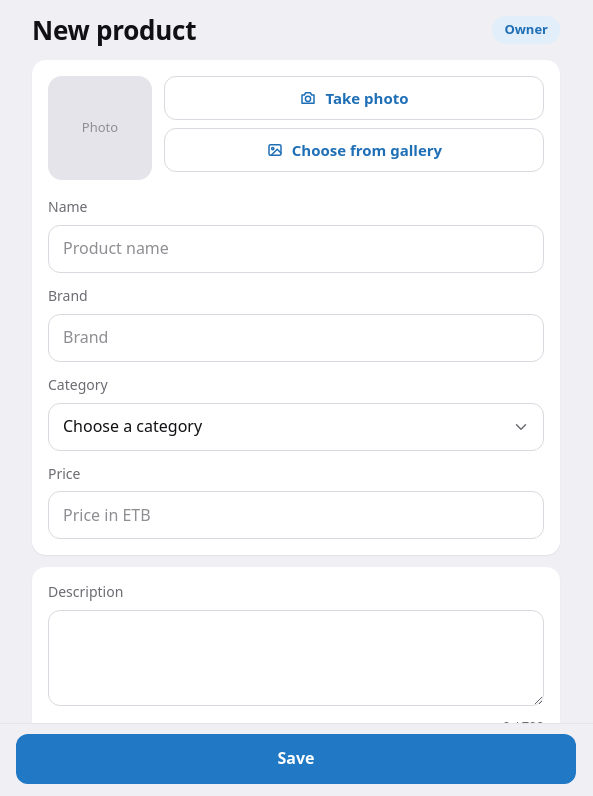
Test: Products › a new product needs a name, then goes on to its stock grid
Click the button "Save": (296, 759) [16, 734, 576, 784]
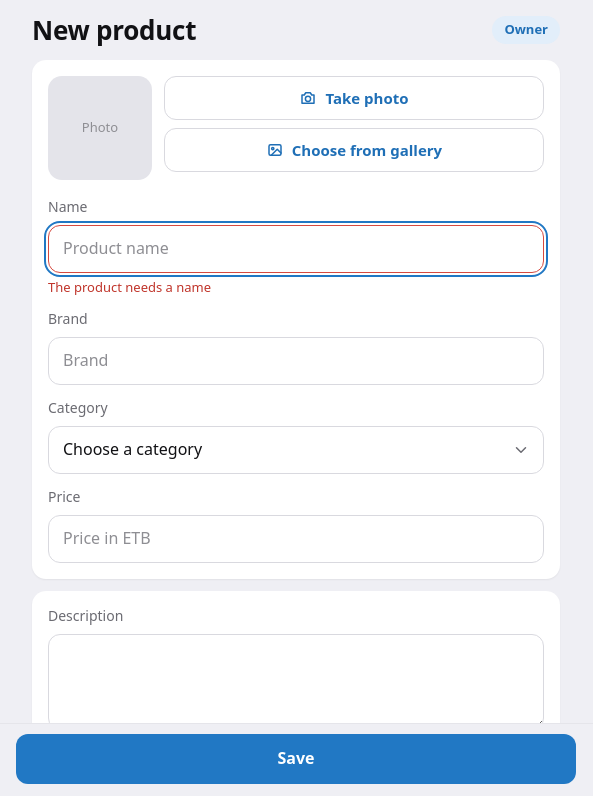
Check: the text "The product needs a name" is shown, box [48, 278, 211, 296]
In the field labelled "Name": (296, 249) [48, 225, 544, 273], type "Polo"
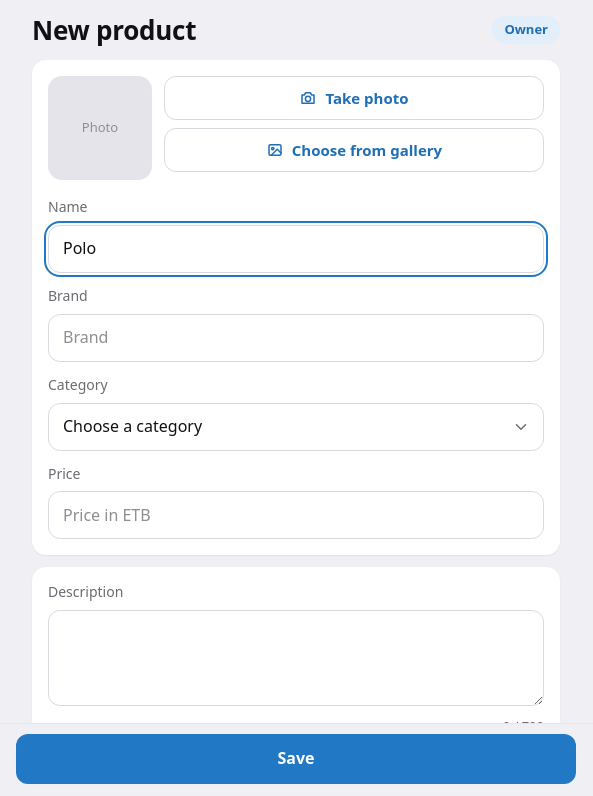
In the field labelled "Price": (296, 516) [48, 492, 544, 540], type "1800"
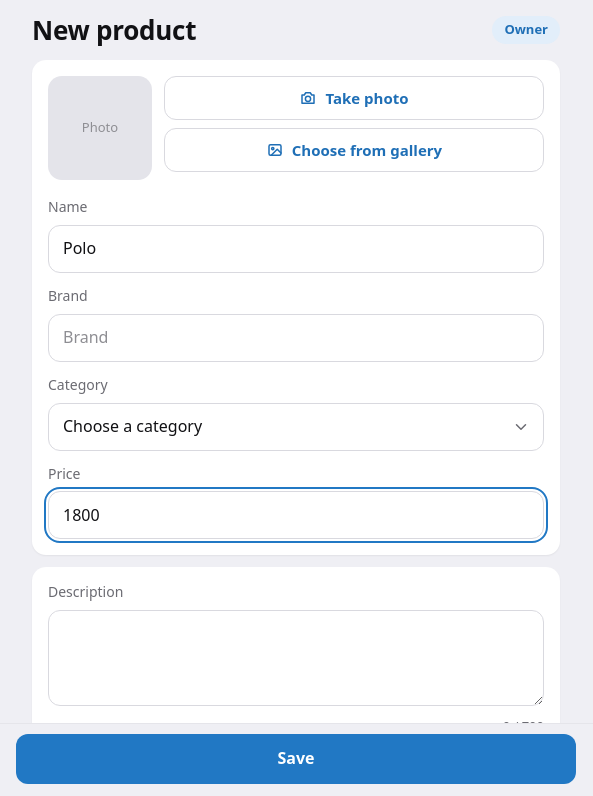
Click the button "Save": (296, 759) [16, 734, 576, 784]
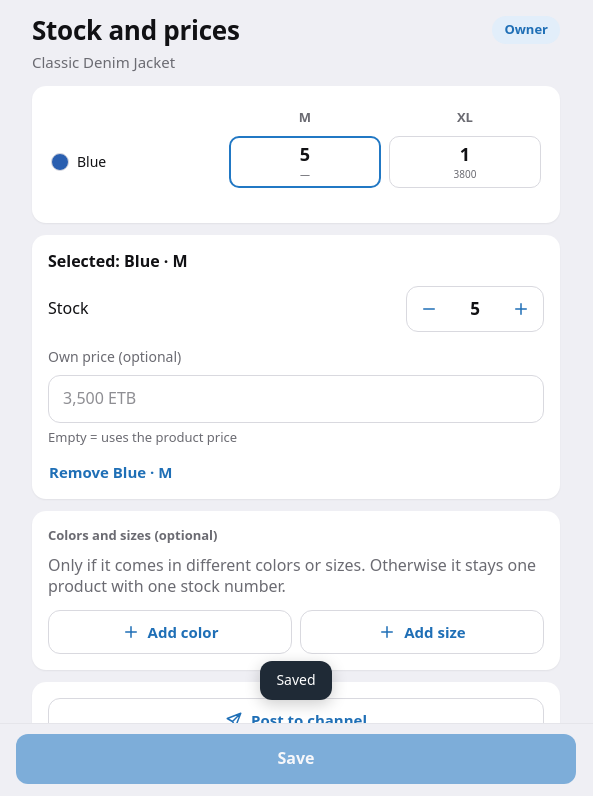
Check: the heading "Stock and prices" is shown, box [32, 16, 240, 46]
